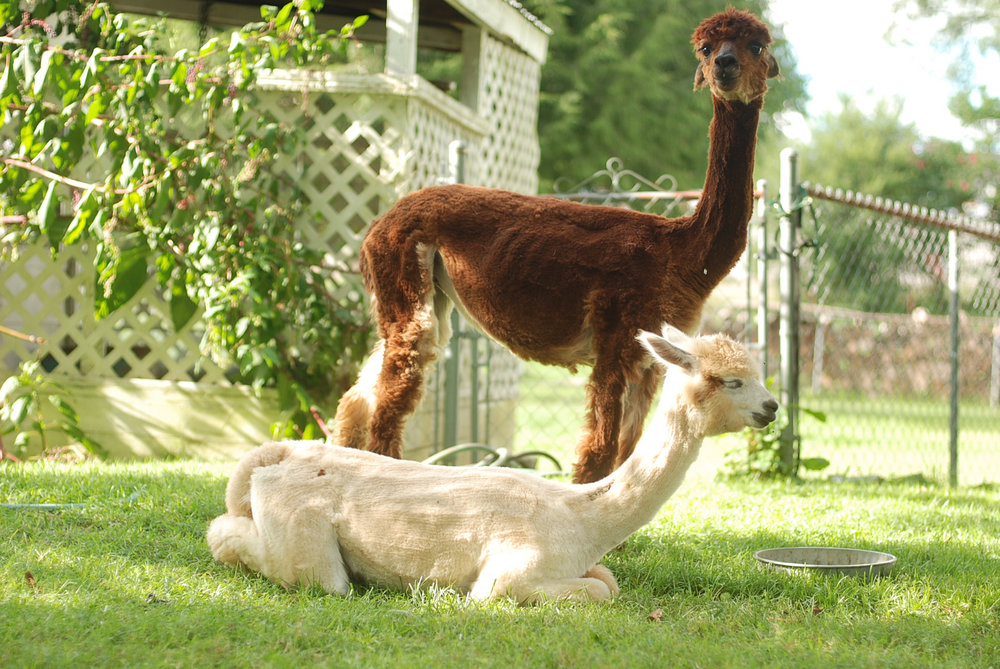alpaca: (325, 6, 781, 484), (206, 321, 778, 609)
